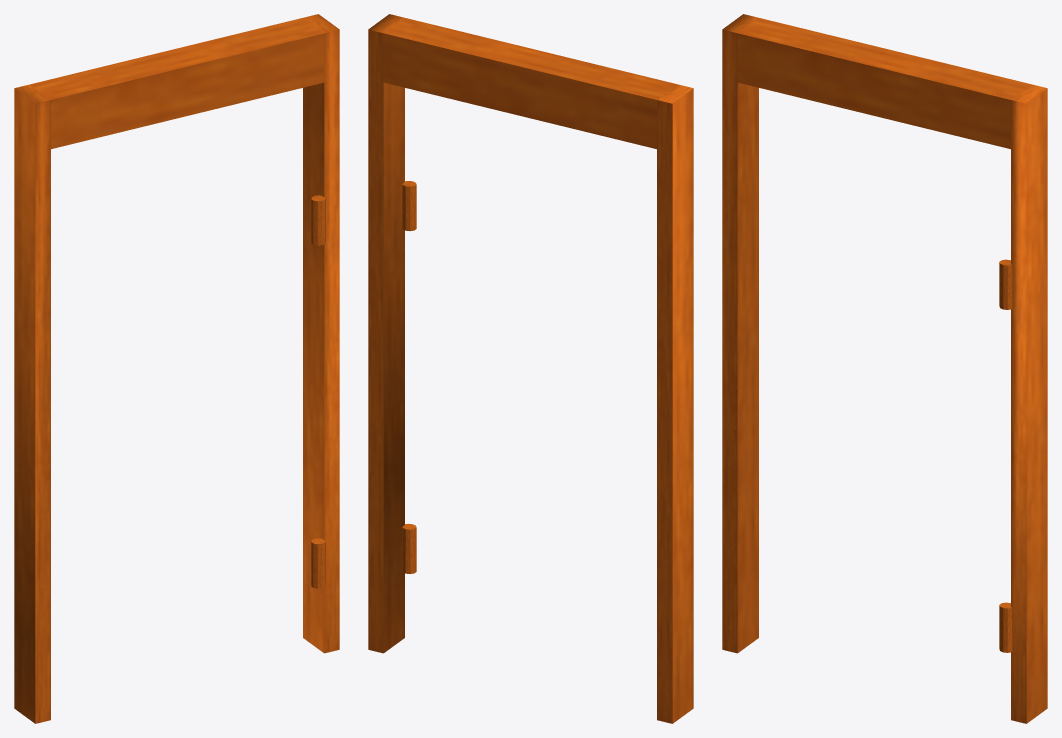
Rendered from Door_Frame_A.fbx.
3 renders of one model, left to right at view 1: azimuth 30°, elevation 25°; view 2: azimuth 150°, elevation 25°; view 3: azimuth 330°, elevation 25°, orthographic.
Visible parts, largest first — view 1: Door_Frame_A; view 2: Door_Frame_A; view 3: Door_Frame_A.
Boxes of the visible parts, x1,y1,x2,y2 form: Door_Frame_A: [14, 14, 339, 723]; Door_Frame_A: [368, 14, 693, 723]; Door_Frame_A: [722, 14, 1047, 723].
Bounding box in the file's own units: 1 × 1.95 × 0.1364.
